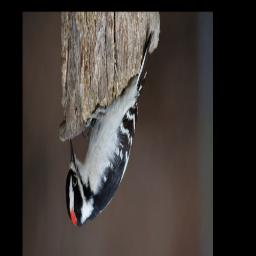Woodpecker: (64, 27, 155, 231)
